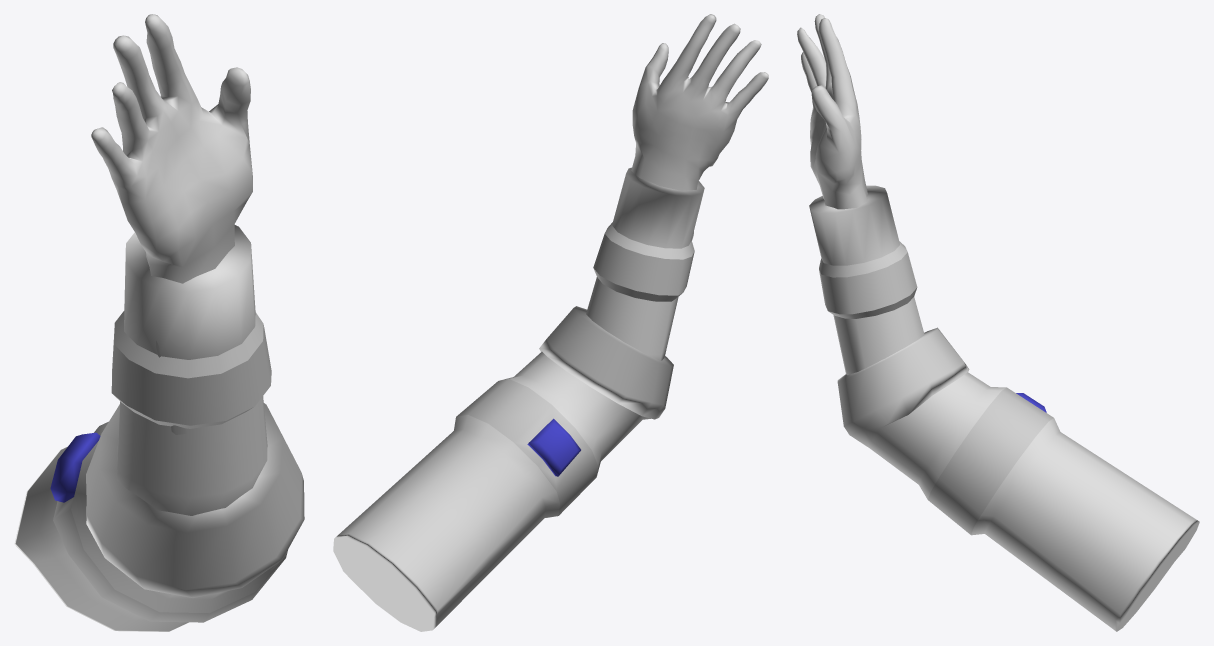
File: arm_geo.fbx
3 views of the same model, side by side, from view 1: azimuth 30°, elevation 25°; view 2: azimuth 150°, elevation 25°; view 3: azimuth 270°, elevation 25° (orthographic). The views are drawn at different scales.
Visible parts, largest first — view 1: astronautArm_geo; view 2: astronautArm_geo; view 3: astronautArm_geo.
Boxes of the visible parts, x1,y1,x2,y2 form: astronautArm_geo: [14, 14, 304, 631]; astronautArm_geo: [333, 14, 768, 631]; astronautArm_geo: [797, 14, 1199, 631].
Bounding box in the file's own units: 5.23 × 10.1 × 6.93.
